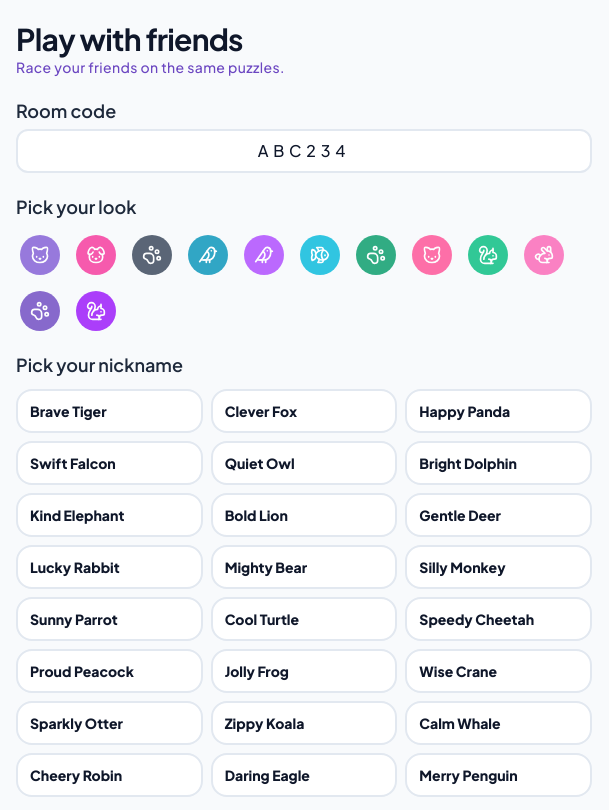
joining as a guest › says why a room cannot be joined
Click the button named "fox" at x=96, y=255, box [72, 231, 120, 279]
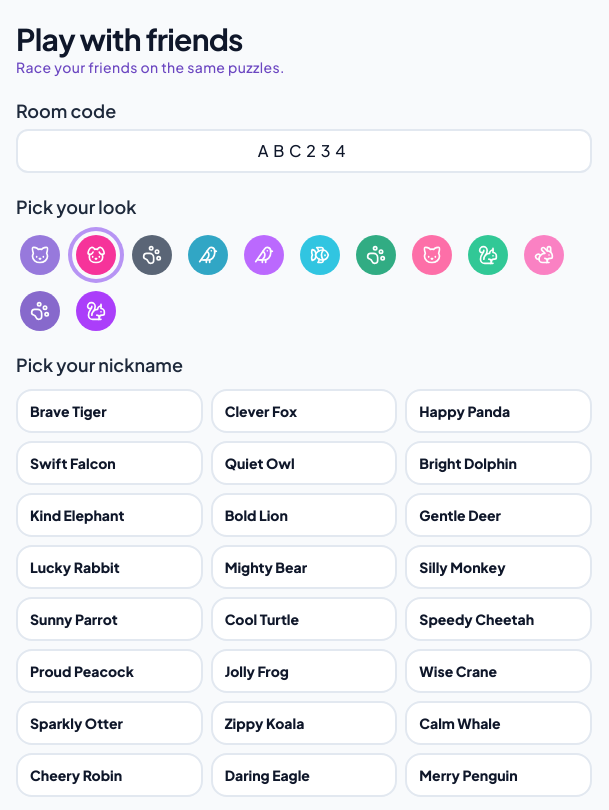
Click the button "Clever Fox" at x=304, y=411, box [211, 389, 397, 433]
(page scrolled)
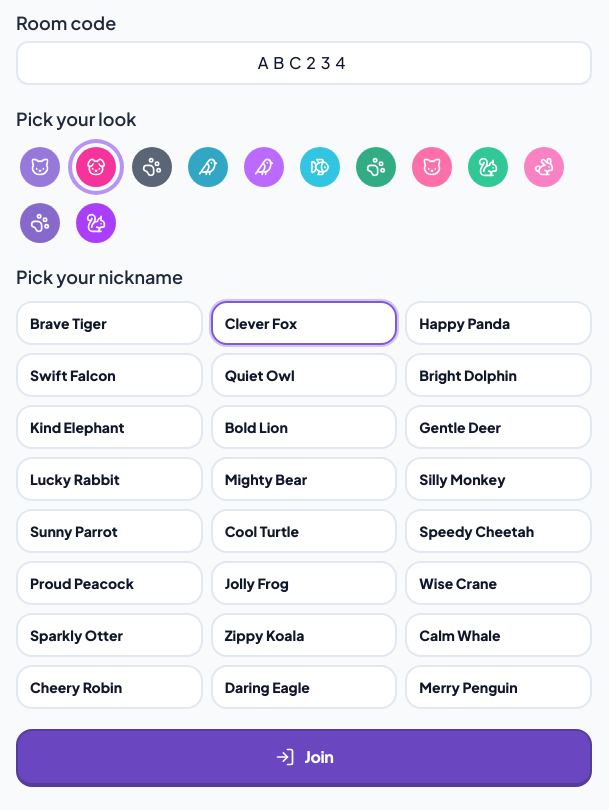
Click the button "Join" at x=304, y=758, box [16, 729, 592, 787]
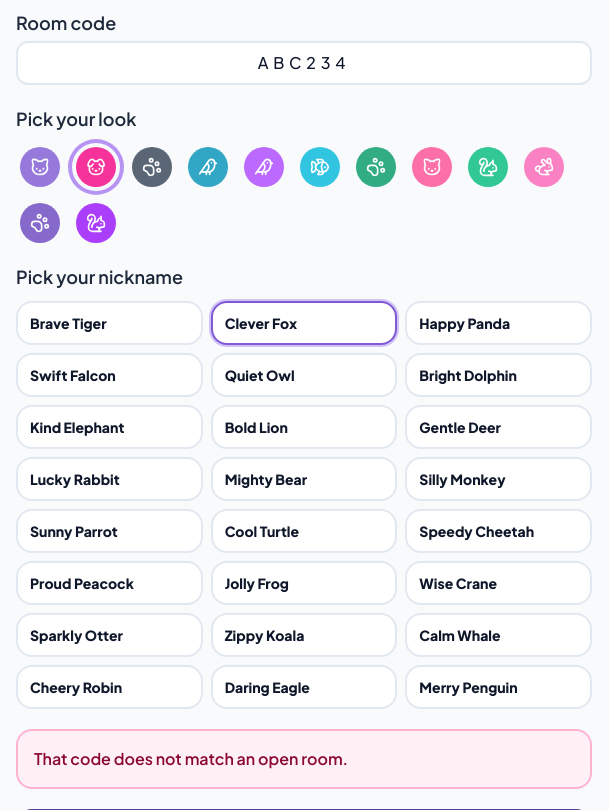
Check: the text "That code does not match an open room." is shown, box [16, 729, 592, 789]
